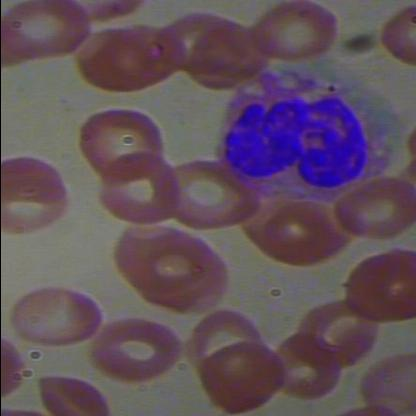RBC: (157, 146, 260, 232), (74, 108, 178, 193), (107, 219, 210, 304), (242, 1, 340, 71), (336, 247, 416, 329), (200, 340, 287, 415), (11, 282, 101, 352), (94, 316, 184, 384), (330, 171, 415, 241), (1, 1, 93, 63), (31, 369, 124, 415), (1, 148, 72, 208), (356, 351, 415, 415), (375, 0, 415, 72)
WBC: (218, 61, 400, 210)
